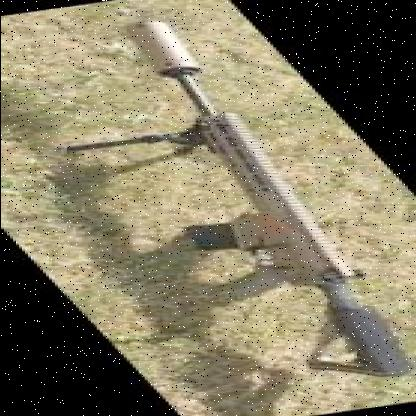rifle: (0, 11, 416, 383)
